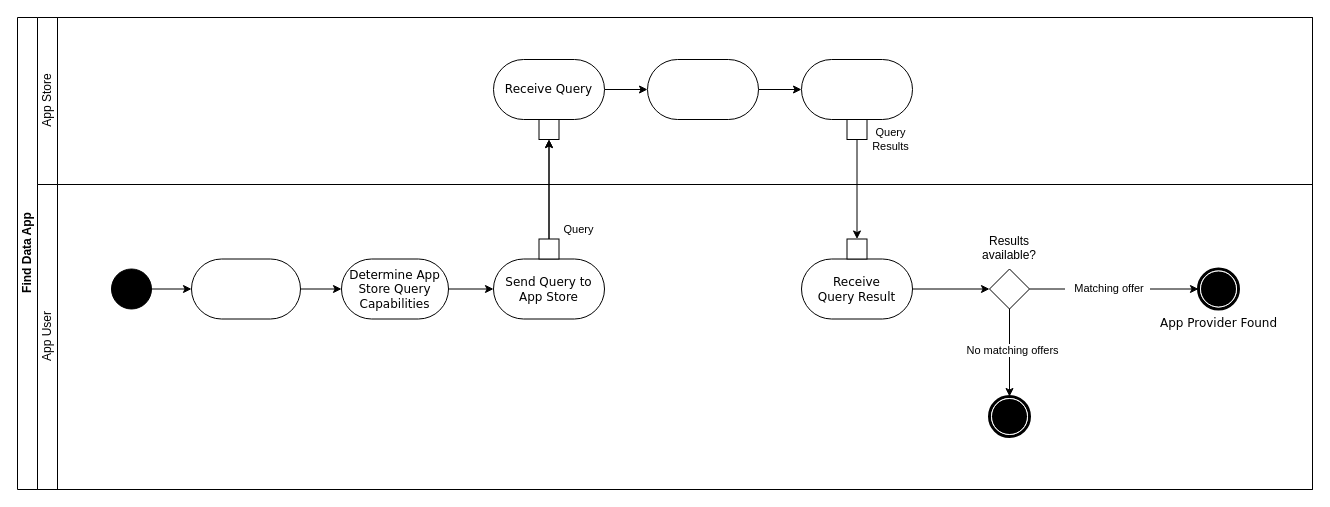
Some shapes in this 1330 by 507 pixel diagram are drawn without their labels. Each missing label, with the centre of its shape:
No App Provider Found: (1009,416)
Process Query: (702,89)
Return Query Result: (856,89)
Select App Store: (245,288)
